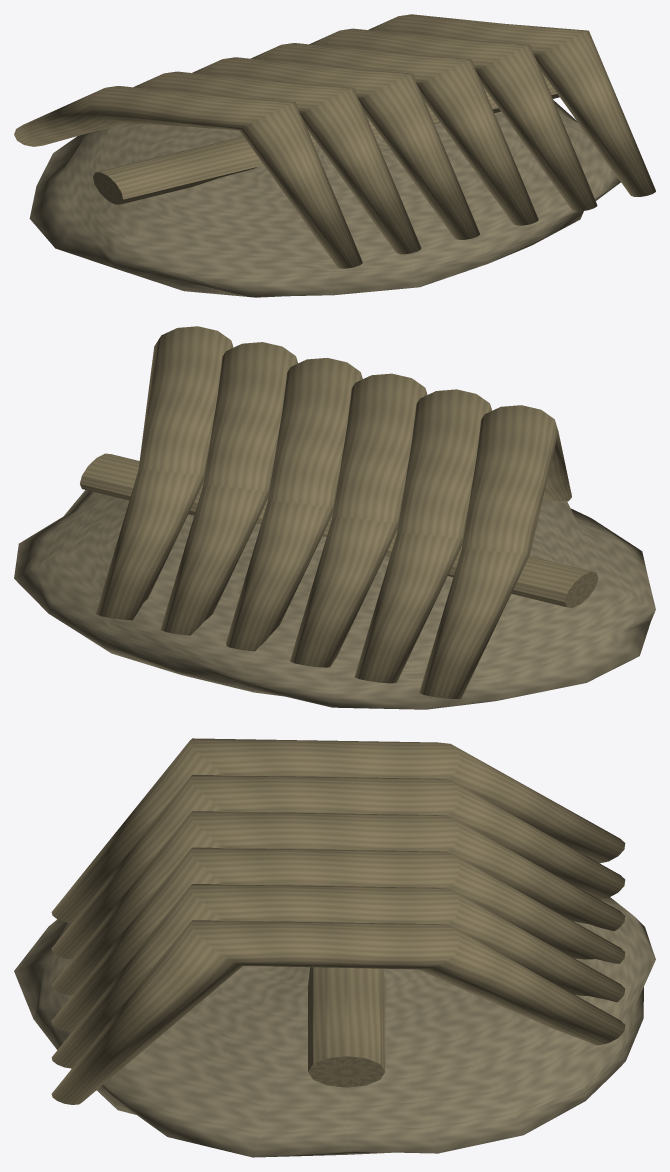
File: submerged_root_snarl_swamp_and_mangrove_22621.glb
3 renders of one model, top to bottom at view 1: azimuth 30°, elevation 25°; view 2: azimuth 150°, elevation 25°; view 3: azimuth 270°, elevation 25°, orthographic. The views are drawn at different scales.
Visible parts, largest first — view 1: submerged-root-snarl_0, submerged-root-snarl_1, submerged-root-snarl_2, submerged-root-snarl_4, submerged-root-snarl_5, submerged-root-snarl_3, submerged-root-snarl_6, submerged-root-snarl_7; view 2: submerged-root-snarl_0, submerged-root-snarl_1, submerged-root-snarl_6, submerged-root-snarl_2, submerged-root-snarl_3, submerged-root-snarl_5, submerged-root-snarl_4, submerged-root-snarl_7; view 3: submerged-root-snarl_0, submerged-root-snarl_6, submerged-root-snarl_1, submerged-root-snarl_2, submerged-root-snarl_3, submerged-root-snarl_5, submerged-root-snarl_4, submerged-root-snarl_7.
Part boxes in pixels (x1,y1,x2,y2): submerged-root-snarl_0: [29, 100, 620, 297]; submerged-root-snarl_1: [14, 86, 362, 268]; submerged-root-snarl_2: [102, 71, 421, 254]; submerged-root-snarl_4: [251, 43, 538, 225]; submerged-root-snarl_5: [309, 28, 597, 211]; submerged-root-snarl_3: [192, 57, 479, 239]; submerged-root-snarl_6: [368, 14, 655, 196]; submerged-root-snarl_7: [93, 73, 559, 204]; submerged-root-snarl_0: [14, 490, 655, 709]; submerged-root-snarl_1: [419, 405, 571, 698]; submerged-root-snarl_6: [96, 326, 233, 620]; submerged-root-snarl_2: [354, 389, 491, 683]; submerged-root-snarl_3: [290, 373, 427, 667]; submerged-root-snarl_5: [160, 342, 297, 635]; submerged-root-snarl_4: [226, 358, 362, 651]; submerged-root-snarl_7: [80, 453, 598, 607]; submerged-root-snarl_0: [14, 897, 655, 1157]; submerged-root-snarl_6: [51, 920, 625, 1104]; submerged-root-snarl_1: [51, 738, 625, 922]; submerged-root-snarl_2: [51, 774, 625, 959]; submerged-root-snarl_3: [51, 811, 625, 995]; submerged-root-snarl_5: [51, 884, 625, 1068]; submerged-root-snarl_4: [51, 847, 625, 1032]; submerged-root-snarl_7: [308, 967, 385, 1087].
Bounding box in the file's own units: 1.82 × 0.5022 × 1.49.
2 materials, 2 textured.
